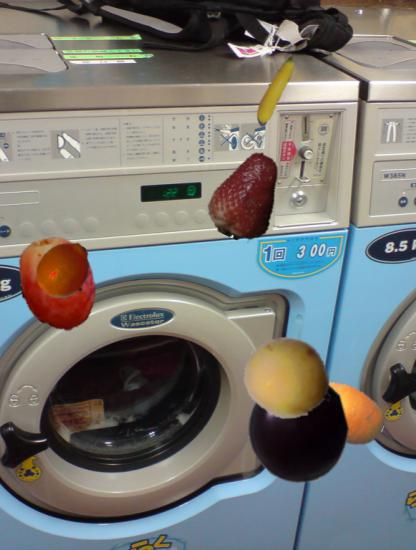Banana: (236, 50, 316, 130)
Cherry: (244, 375, 353, 484)
Grape: (10, 236, 106, 332)
Kumquats: (305, 374, 387, 456)
Pepino: (243, 333, 334, 424)
Strawberry: (203, 150, 294, 241)
Tangelo: (34, 240, 96, 302)
